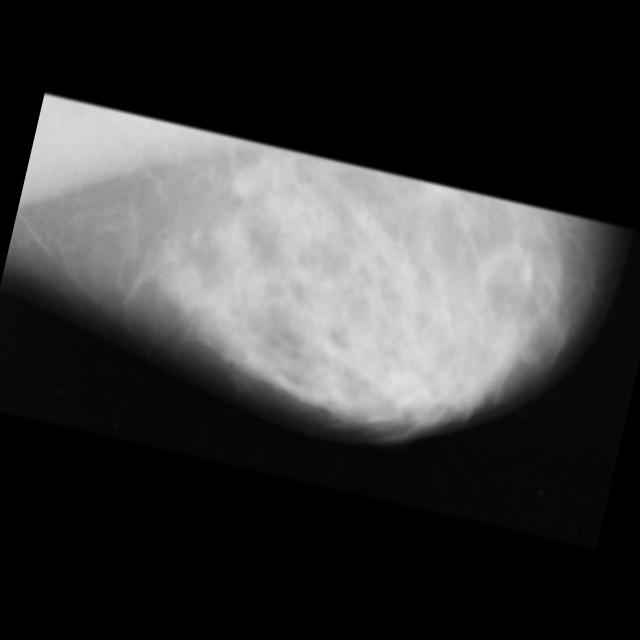MISC: (215, 148, 279, 214)
